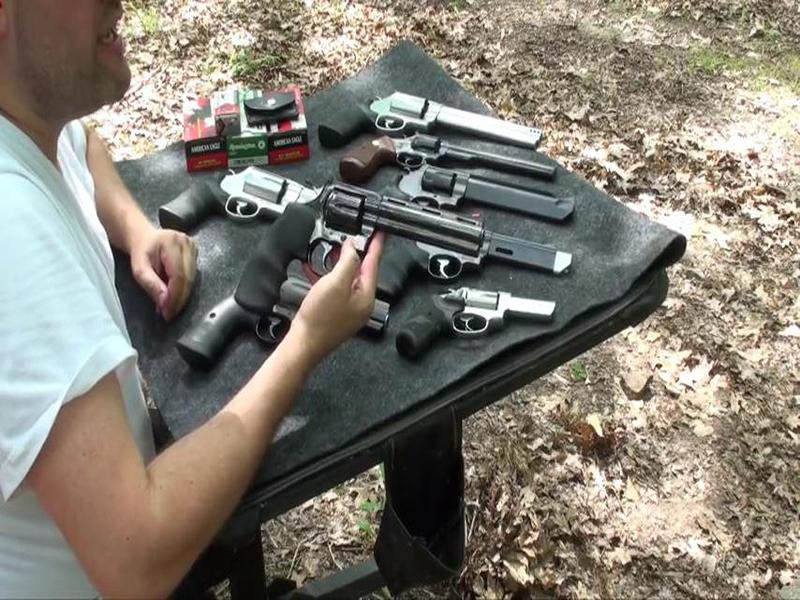Revolver: (249, 167, 492, 343)
